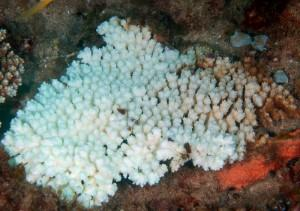bleached_corals: (0, 29, 24, 102)
